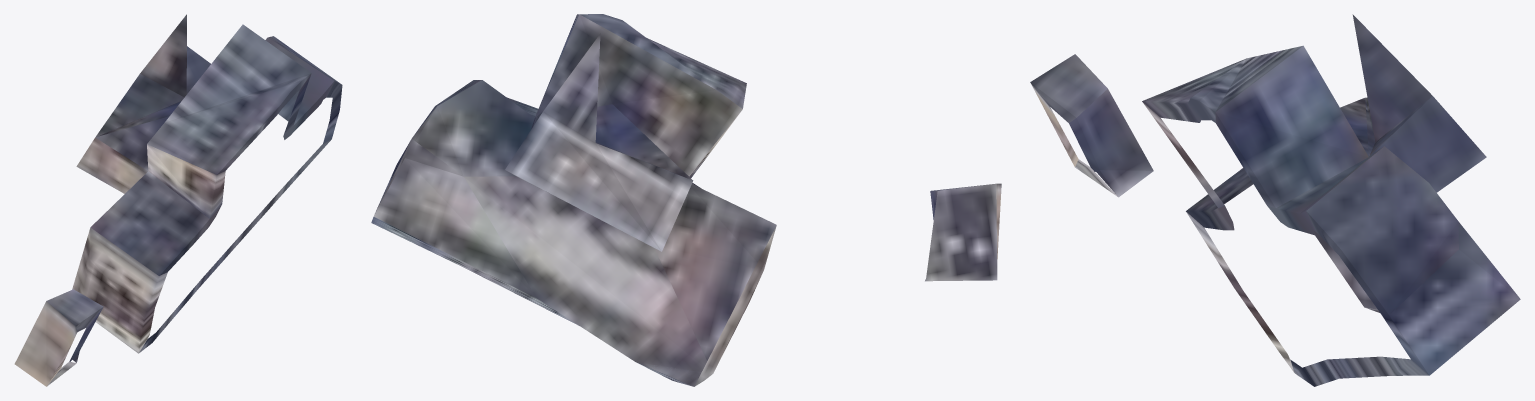
3 renders of one model, left to right at view 1: azimuth 30°, elevation 25°; view 2: azimuth 150°, elevation 25°; view 3: azimuth 270°, elevation 25°, orthographic. The views are drawn at different scales.
Size of the model in its own units: 54.08 by 36.31 by 39.91.
1 material, 1 textured.
